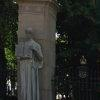Statue: (16, 19, 52, 95)
